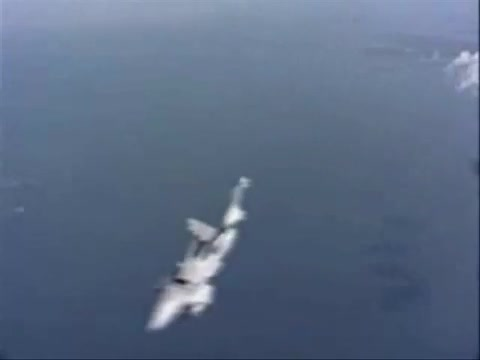aeroplane: (146, 175, 254, 334)
